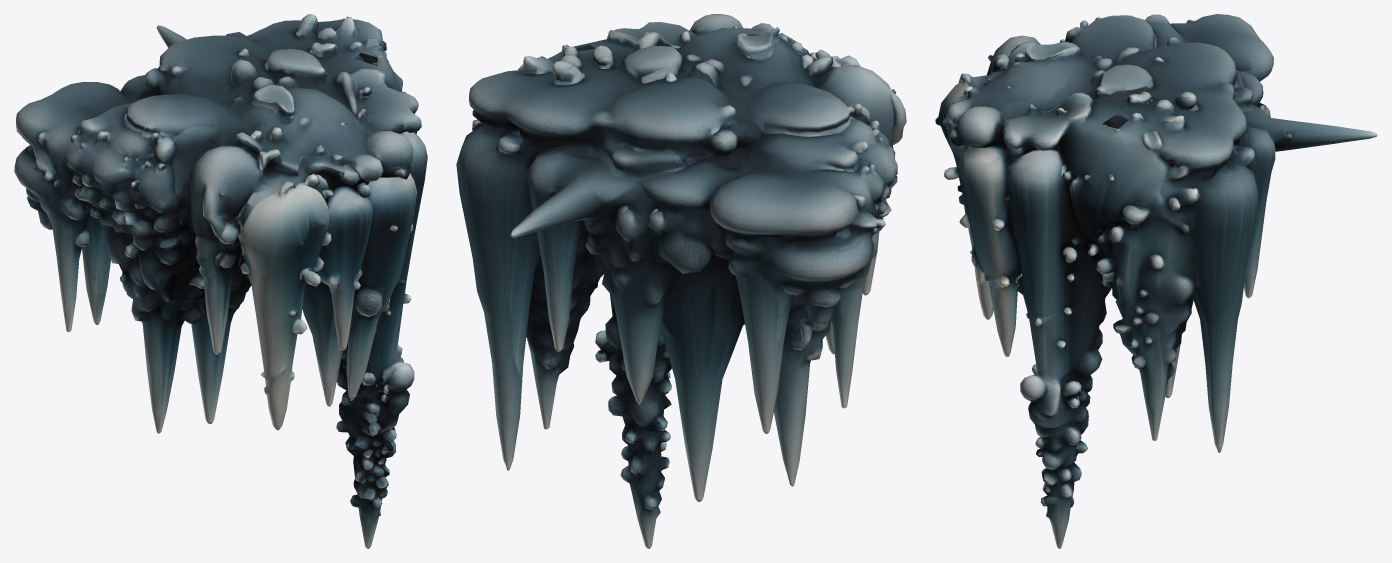
Rendered from tripo_convert_1fb6a32d-1d16-489c-9cac-97c9df0df95b.fbx.
3 views of the same model, side by side, from view 1: azimuth 30°, elevation 25°; view 2: azimuth 150°, elevation 25°; view 3: azimuth 270°, elevation 25° (orthographic). The views are drawn at different scales.
Visible parts, largest first — view 1: tripo_node_1fb6a32d; view 2: tripo_node_1fb6a32d; view 3: tripo_node_1fb6a32d.
Part boxes in pixels (<box>): tripo_node_1fb6a32d: <box>14,14,427,548</box>; tripo_node_1fb6a32d: <box>456,14,906,548</box>; tripo_node_1fb6a32d: <box>935,14,1377,548</box>.
Size of the model in its own units: 77.39 by 87.06 by 99.95.
1 material, 1 textured.
